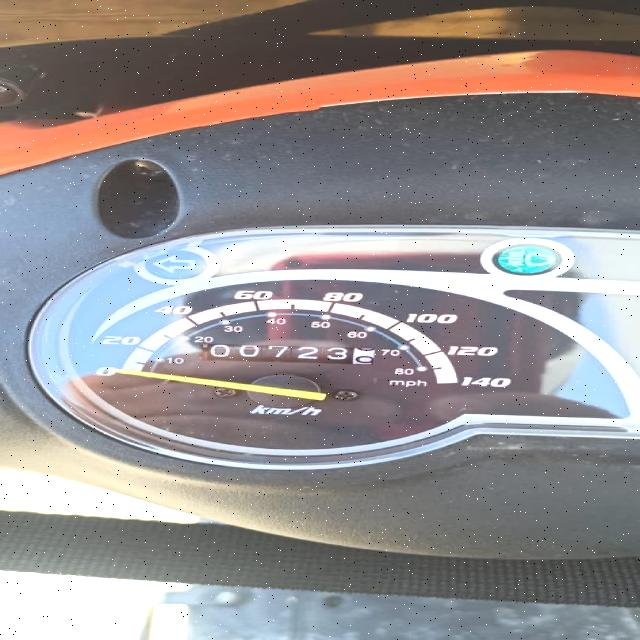odometer: (195, 342, 376, 366)
